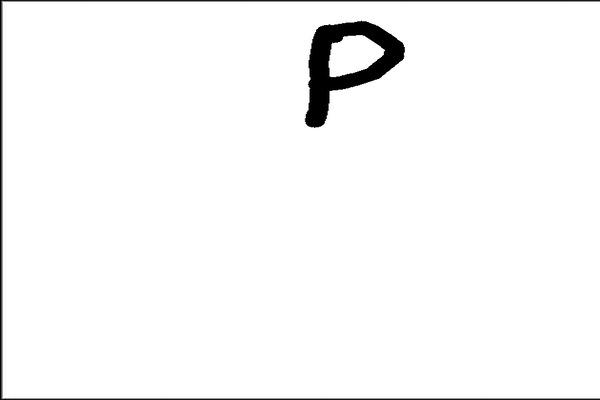P: (297, 15, 412, 145)
